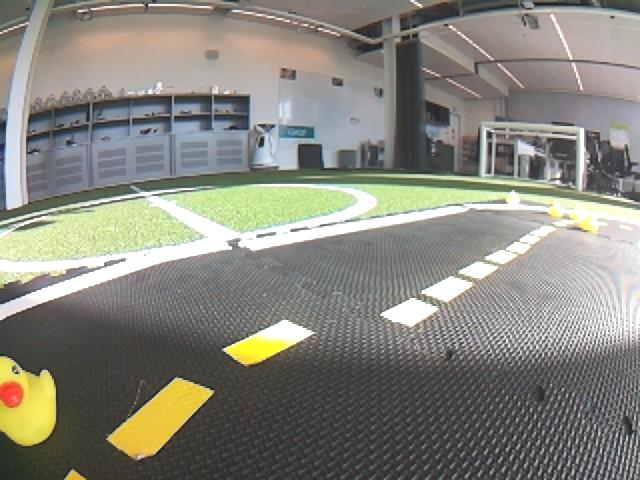Duckies: (0, 355, 58, 447), (581, 214, 598, 231), (549, 203, 564, 217), (506, 190, 520, 204), (570, 205, 584, 218)
